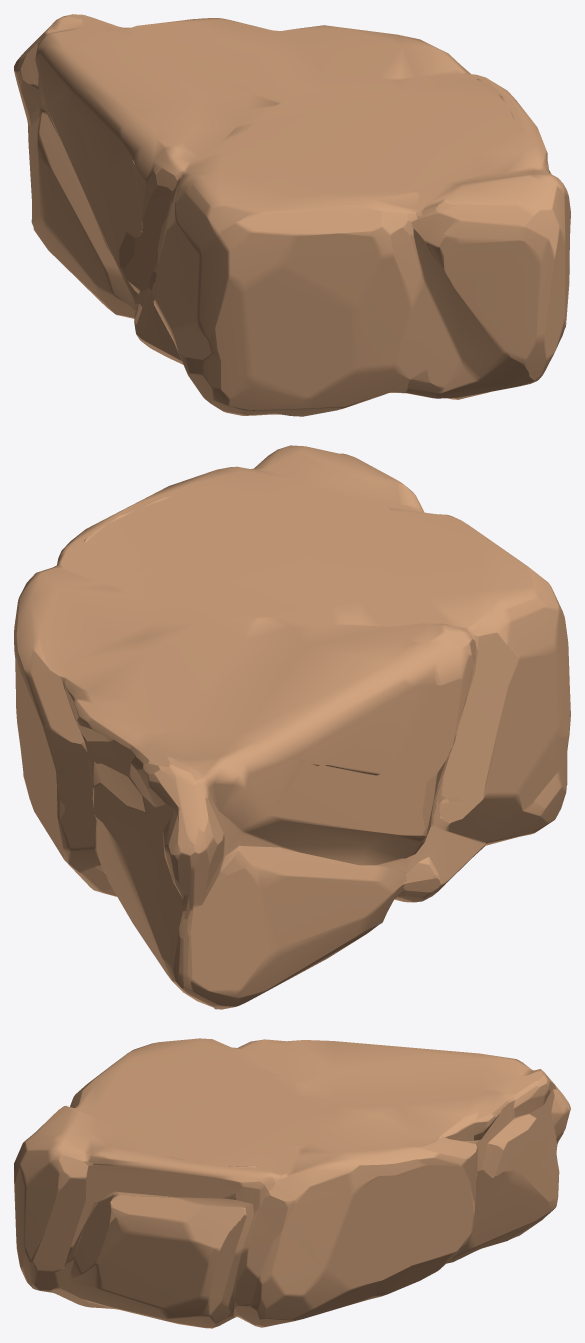
3 views of the same model, one above another, from view 1: azimuth 30°, elevation 25°; view 2: azimuth 150°, elevation 25°; view 3: azimuth 270°, elevation 25° (orthographic). The views are drawn at different scales.
Parts seen in each view (by area): view 1: Mesh_75_LOD0; view 2: Mesh_75_LOD0; view 3: Mesh_75_LOD0.
Part boxes in pixels (x1,y1,x2,y2): Mesh_75_LOD0: (14, 14, 570, 416); Mesh_75_LOD0: (14, 445, 570, 1009); Mesh_75_LOD0: (14, 1038, 570, 1328).
Size of what is drawn, in the model's own units: 1550 by 893 by 2403.
